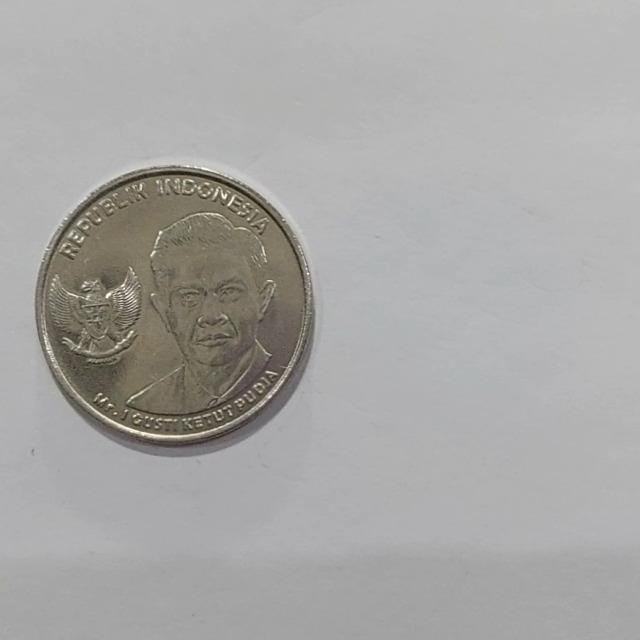Rp100: (34, 162, 315, 450), (122, 209, 279, 418)
